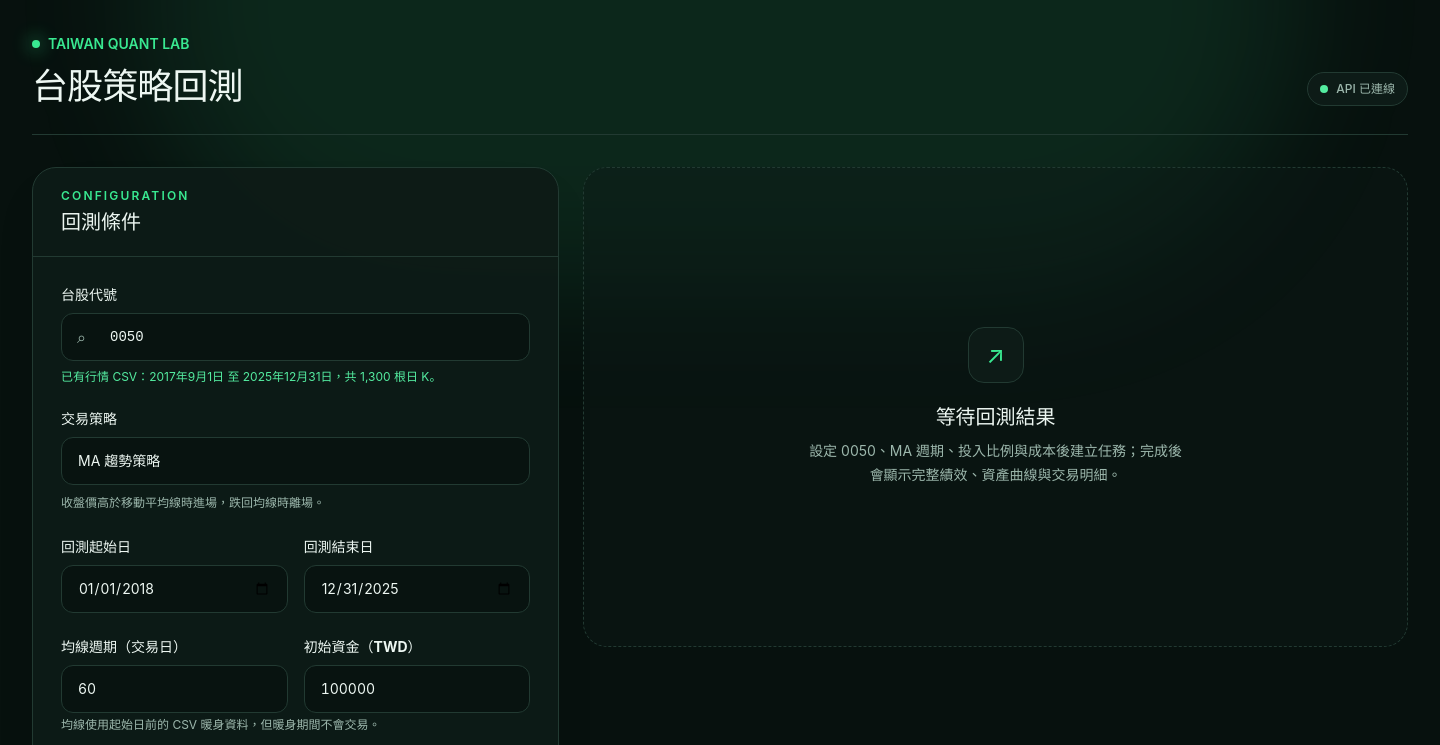
Test case: App › 股票代號空白時不送出任務
Step 1. Clear the search field labelled "台股代號" → x=296, y=337, box 61,313 -> 530,361
(page scrolled)
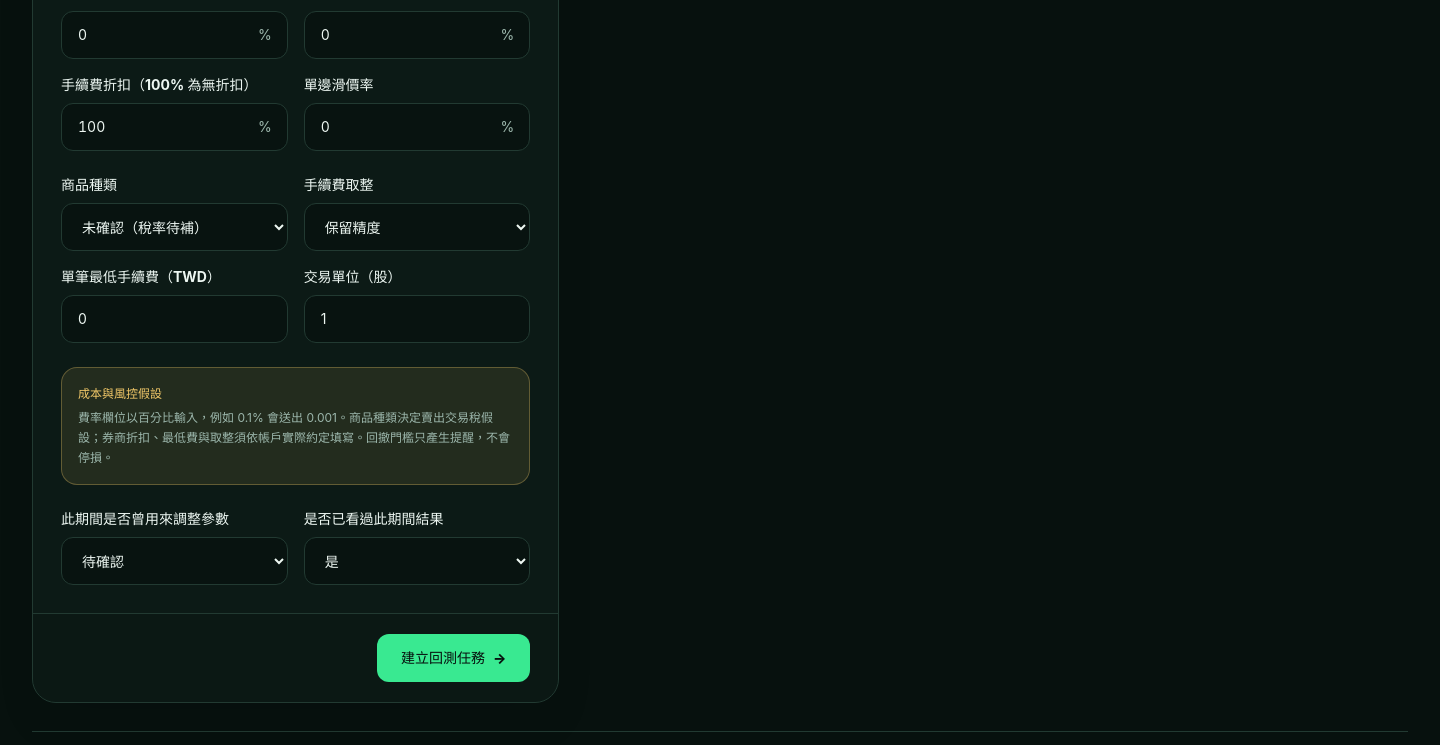
Step 2. Click the button "建立回測任務 →" → x=454, y=658, box 377,634 -> 530,682
(page scrolled)
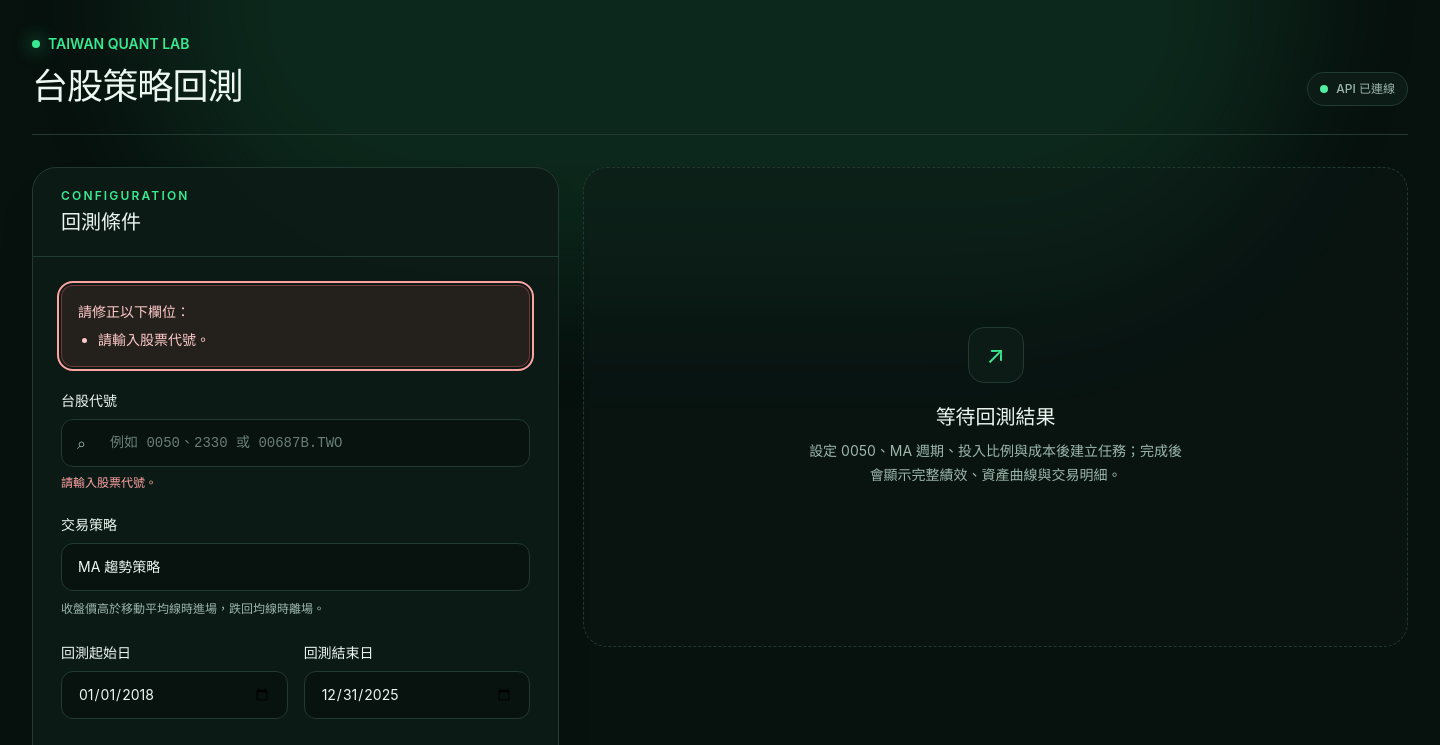
Now the message shows "請輸入股票代號。", box 98,331 -> 210,348
